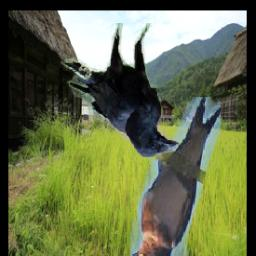Crow: (61, 24, 180, 159)
Swallow: (131, 98, 222, 256)
